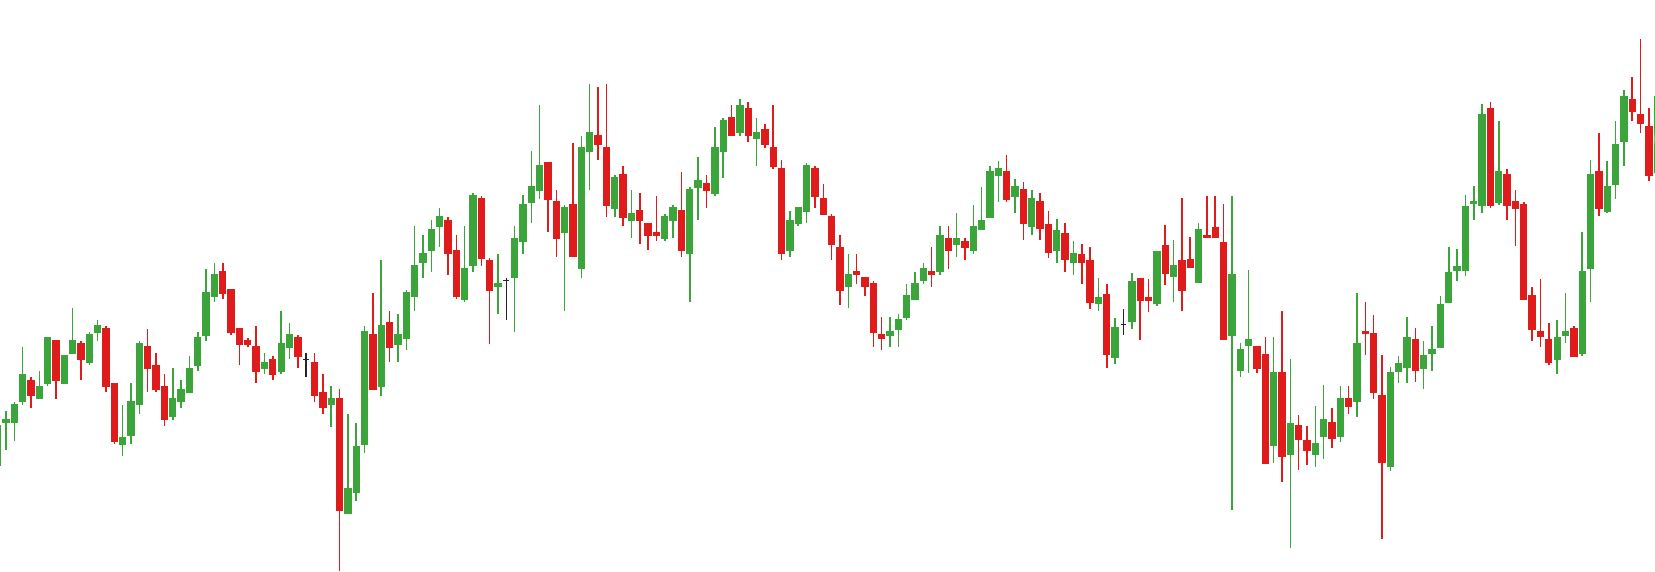buy: (1286, 364, 1397, 538), (9, 355, 136, 459), (450, 222, 503, 347)
sell: (536, 74, 604, 214)
